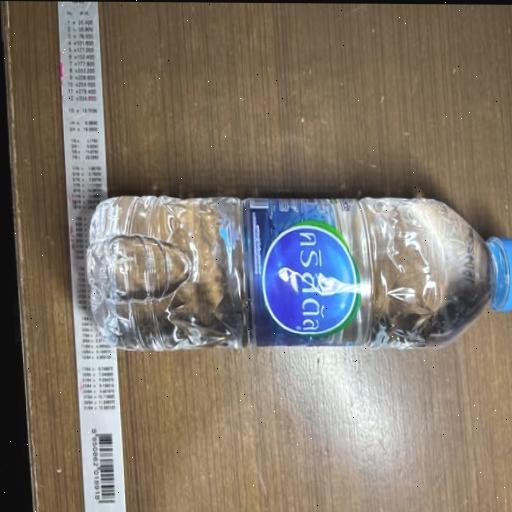ba: (51, 133, 512, 426)
